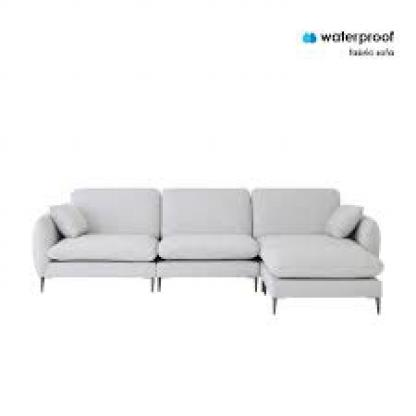sofa: (34, 188, 386, 324)
